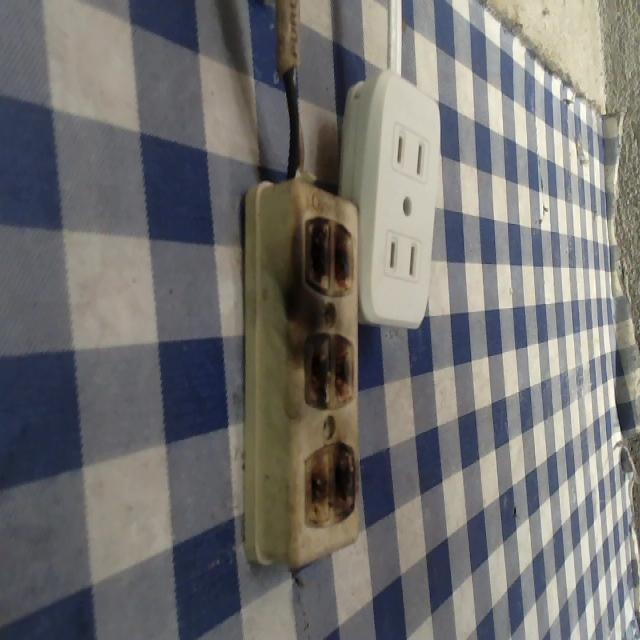-: (295, 443, 362, 516), (301, 211, 353, 300), (303, 335, 361, 409)
